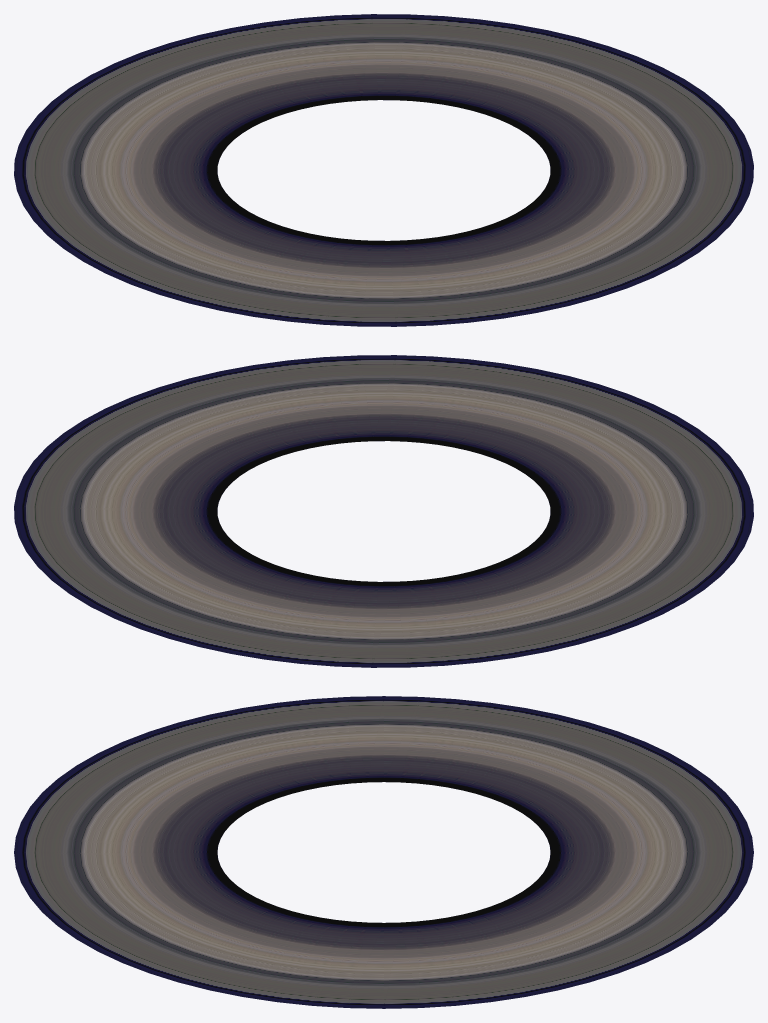
Rendered from saturn.fbx.
The picture shows the model from 3 angles, top to bottom: view 1: azimuth 30°, elevation 25°; view 2: azimuth 150°, elevation 25°; view 3: azimuth 270°, elevation 25°; orthographic projection.
Parts seen in each view (by area): view 1: Plane; view 2: Plane; view 3: Plane.
Boxes of the visible parts, bbox=[...] form: Plane: bbox=[14, 14, 753, 326]; Plane: bbox=[14, 355, 753, 667]; Plane: bbox=[14, 696, 753, 1008].
Bounding box in the file's own units: 2 × 3.26e-07 × 2.
Materials: 1 (1 with a texture image).
